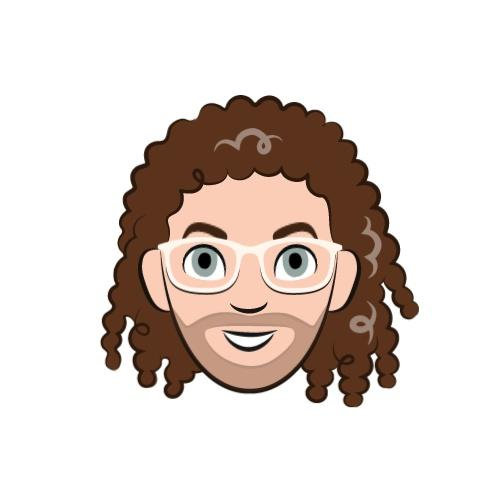NoHuman: (0, 8, 500, 491)
